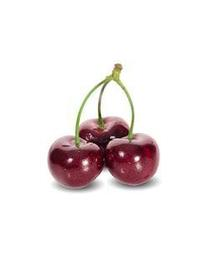cherry: (46, 134, 103, 188), (106, 133, 160, 185), (77, 116, 131, 167)
